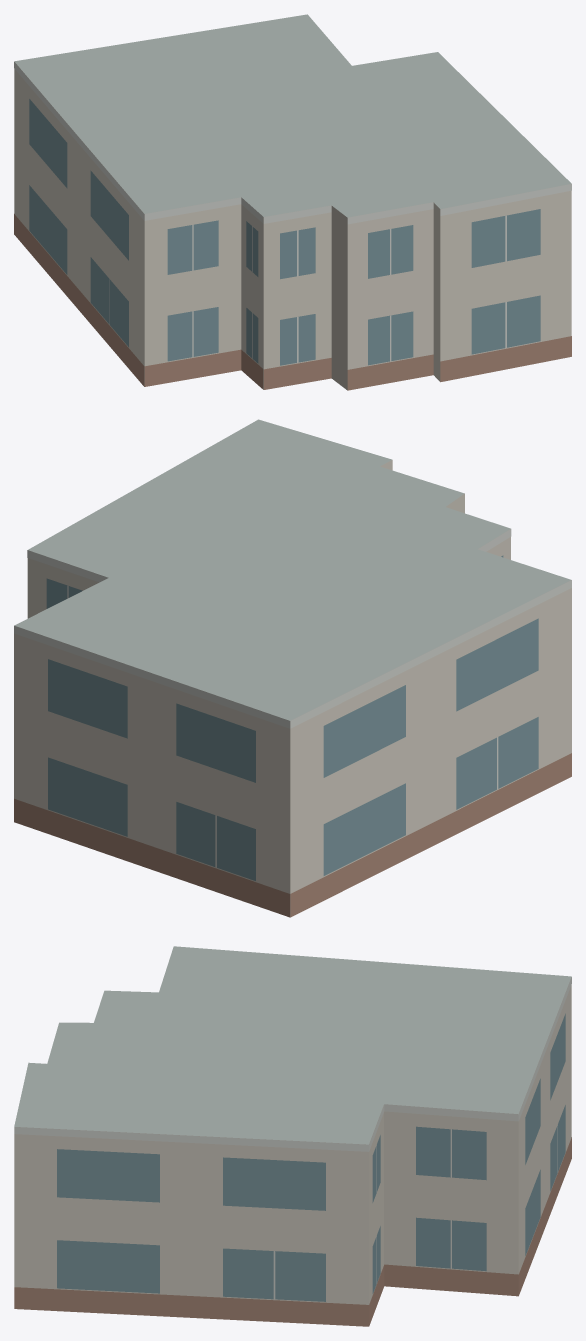
File: survey-upis-32598015.glb
3 renders of one model, top to bottom at view 1: azimuth 30°, elevation 25°; view 2: azimuth 150°, elevation 25°; view 3: azimuth 270°, elevation 25°, orthographic. The views are drawn at different scales.
Parts seen in each view (by area): view 1: survey-upis-32598015.tmp; view 2: survey-upis-32598015.tmp; view 3: survey-upis-32598015.tmp.
Part boxes in pixels (box(x1,y1,x2,y2)): survey-upis-32598015.tmp: box(14, 14, 571, 390); survey-upis-32598015.tmp: box(14, 419, 571, 917); survey-upis-32598015.tmp: box(14, 946, 571, 1326).
Size of the model in its own units: 14.26 by 6.1 by 16.94.
